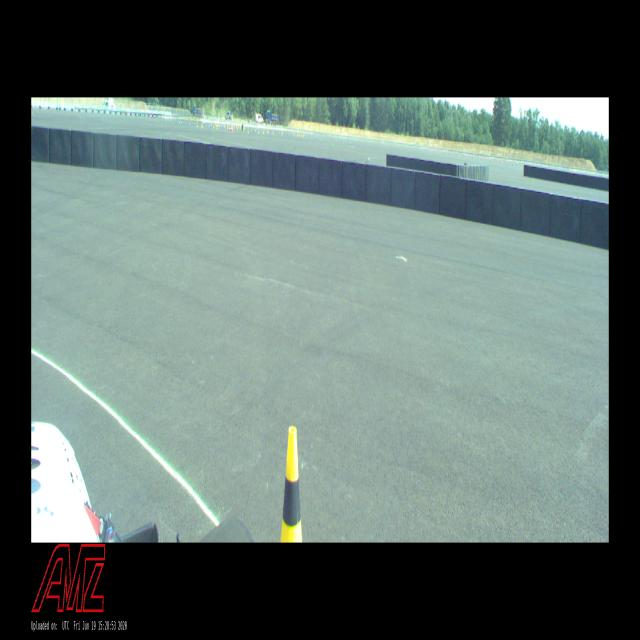yellow_cone: (280, 426, 303, 542)
